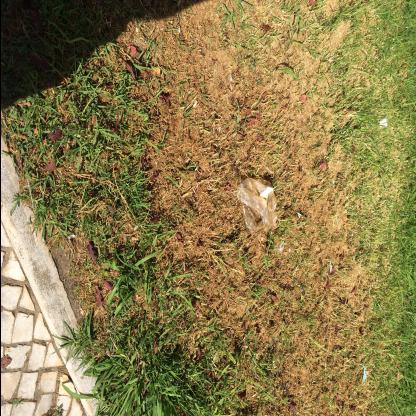plastik: (235, 176, 277, 235)
